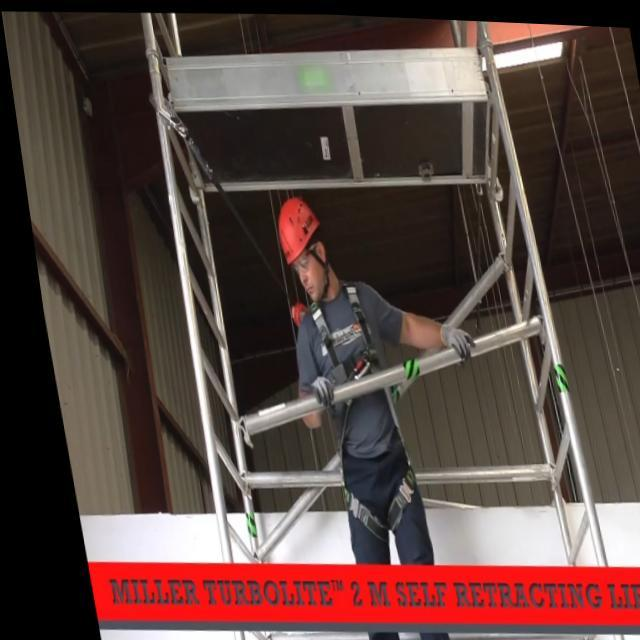belt: (290, 288, 412, 540)
